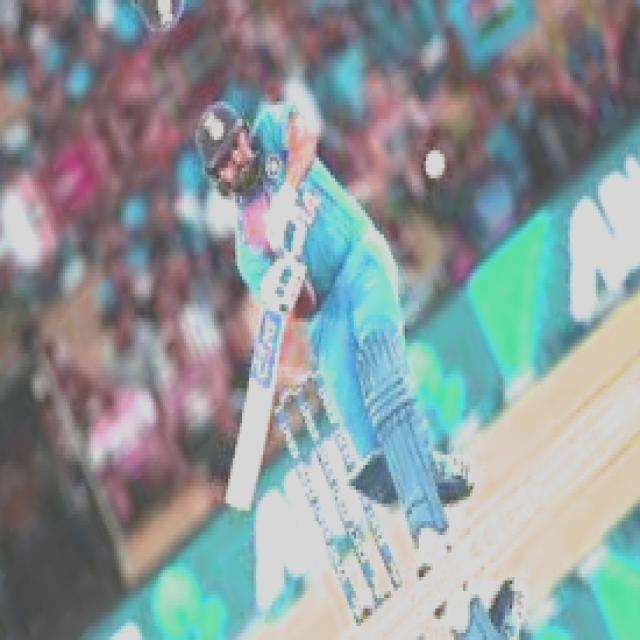toe: (221, 494, 254, 516)
